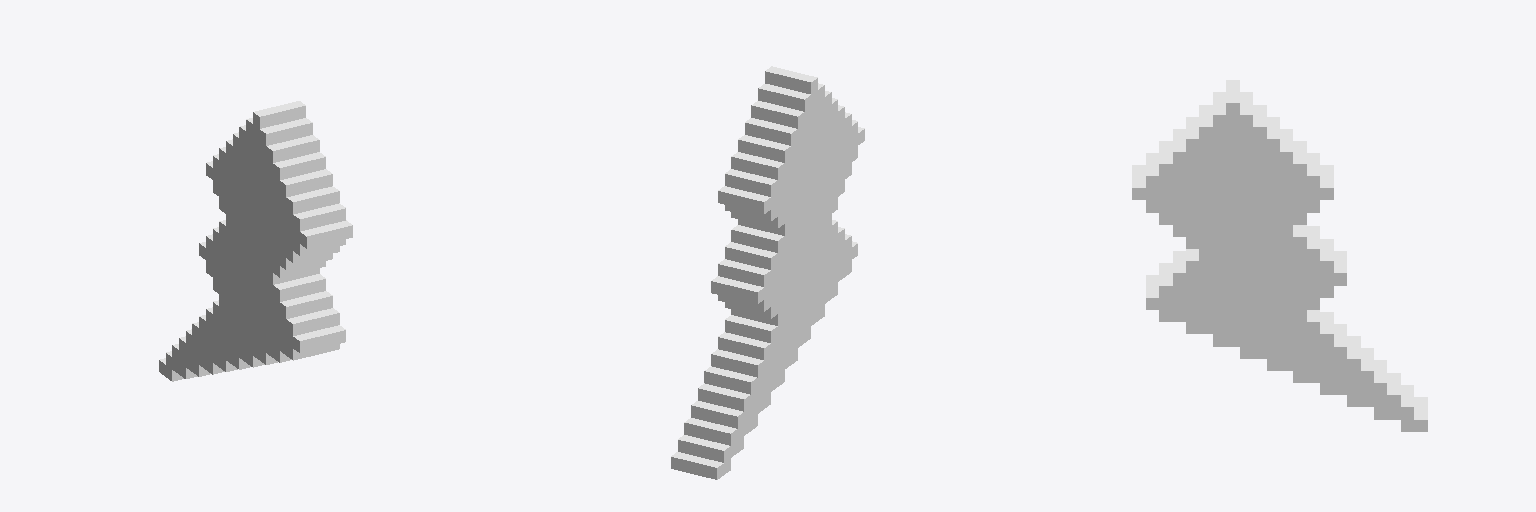
Rendered from FLASH.obj.
3 renders of one model, left to right at view 1: azimuth 30°, elevation 25°; view 2: azimuth 150°, elevation 25°; view 3: azimuth 270°, elevation 25°, orthographic.
Visible parts, largest first — view 1: FLASH; view 2: FLASH; view 3: FLASH.
Part boxes in pixels (x1,y1,x2,y2): FLASH: (159, 101, 352, 381); FLASH: (671, 66, 864, 479); FLASH: (1132, 80, 1427, 431).
Bounding box in the file's own units: 4 × 27 × 22.